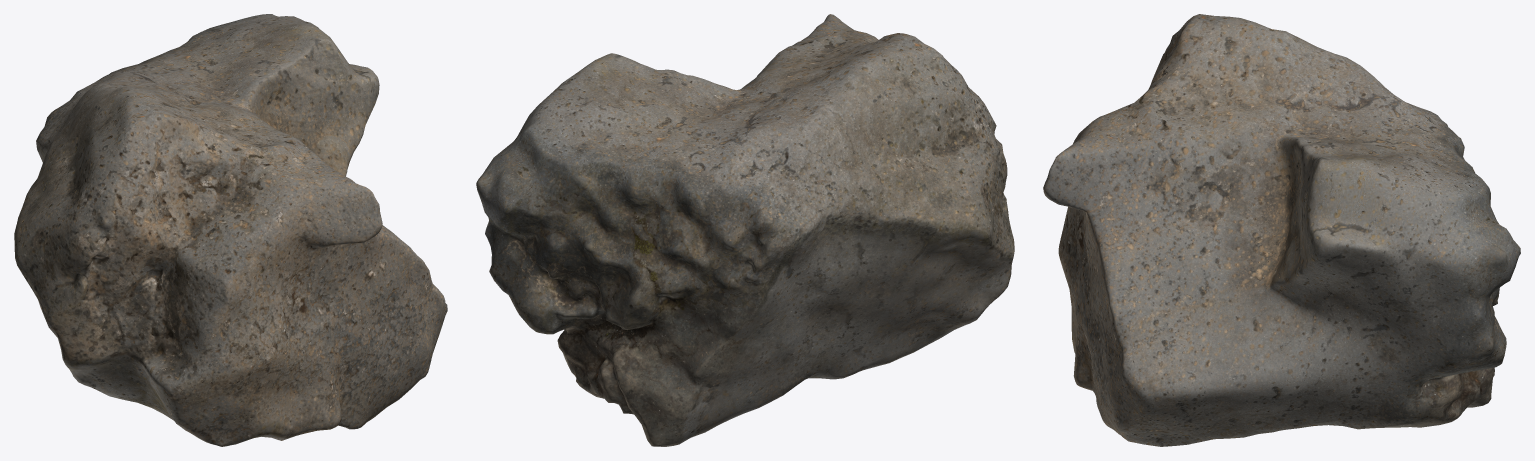
File: Rock.gltf
3 views of the same model, side by side, from view 1: azimuth 30°, elevation 25°; view 2: azimuth 150°, elevation 25°; view 3: azimuth 270°, elevation 25° (orthographic).
Visible parts, largest first — view 1: sjzoo_LOD0_TIER1_000; view 2: sjzoo_LOD0_TIER1_000; view 3: sjzoo_LOD0_TIER1_000.
Part boxes in pixels (box(x1,y1,x2,y2)): sjzoo_LOD0_TIER1_000: box(14, 14, 447, 446); sjzoo_LOD0_TIER1_000: box(476, 14, 1014, 446); sjzoo_LOD0_TIER1_000: box(1043, 14, 1520, 446).
Bounding box in the file's own units: 0.4 × 0.3174 × 0.4098.
1 material, 1 textured.
